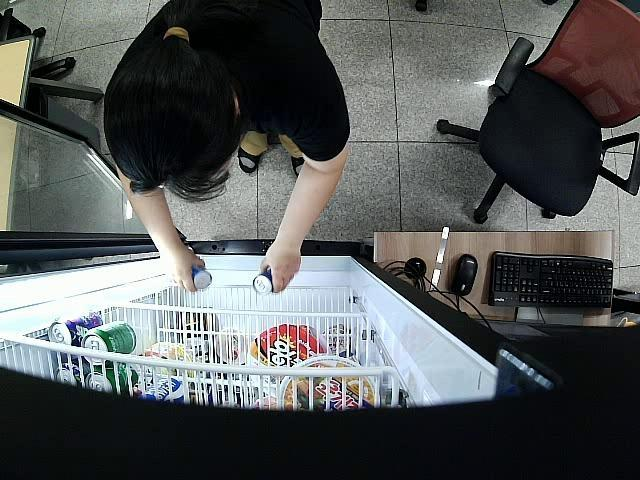15_letsbe: (188, 264, 214, 290), (252, 271, 274, 294)
